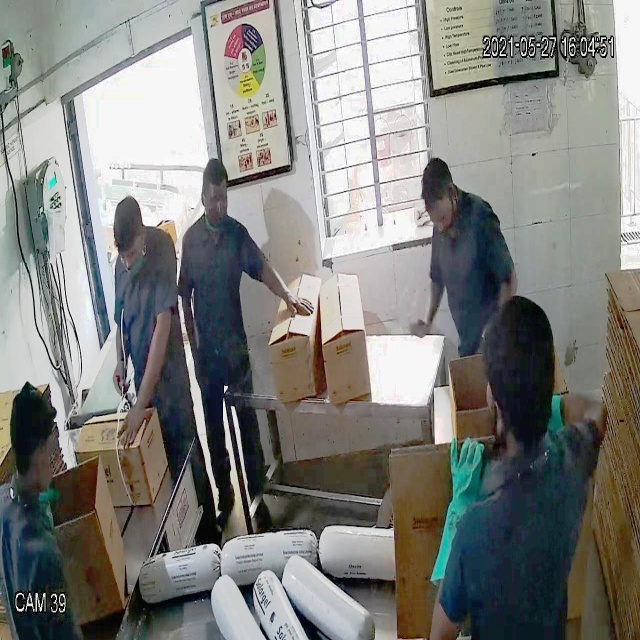Sin_gafas: (113, 235, 146, 270)
